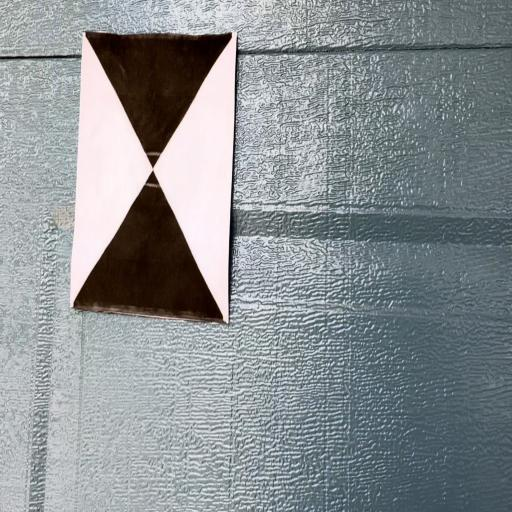target: (70, 30, 238, 326)
